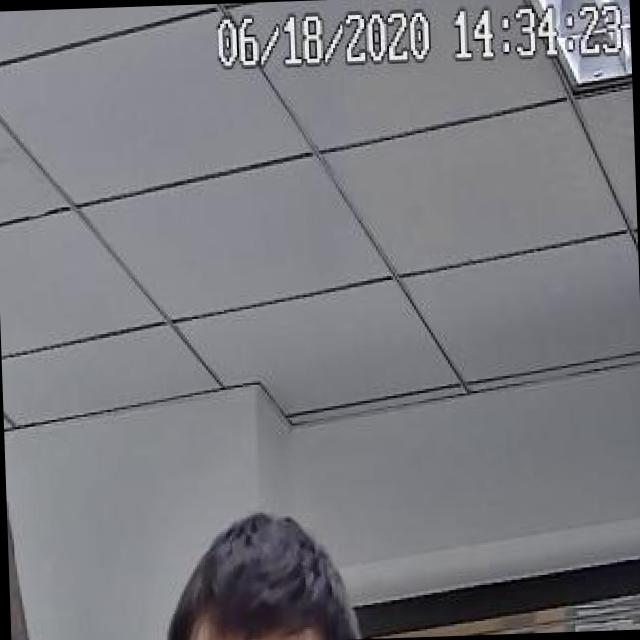Guns: (2, 381, 71, 640)
